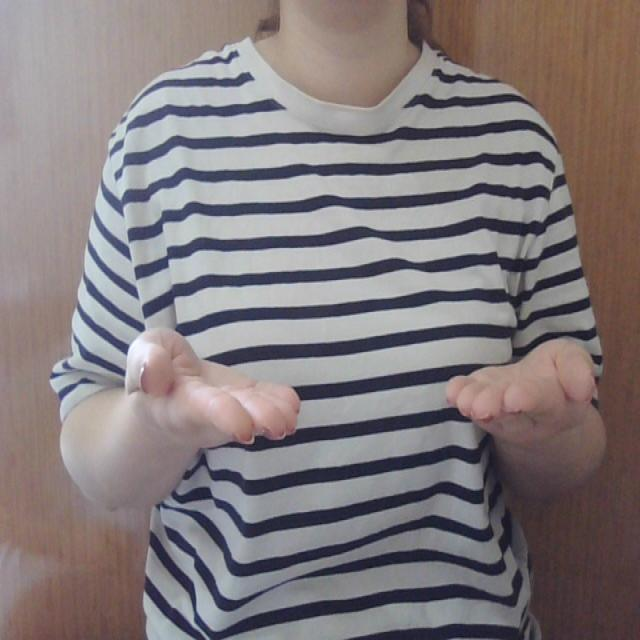Evet: (122, 320, 598, 458)
